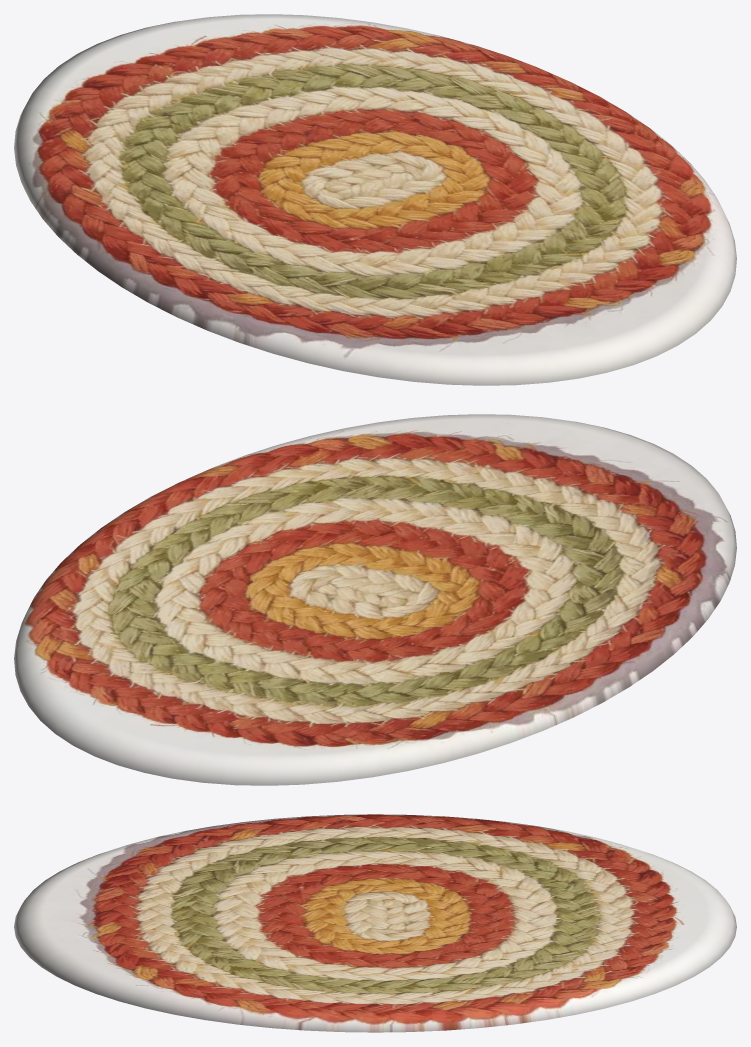
File: wyn_furn_braided_rug.glb
3 renders of one model, top to bottom at view 1: azimuth 30°, elevation 25°; view 2: azimuth 150°, elevation 25°; view 3: azimuth 270°, elevation 25°, orthographic. The views are drawn at different scales.
Visible parts, largest first — view 1: rug; view 2: rug; view 3: rug.
Boxes of the visible parts, bbox=[...] form: rug: bbox=[14, 14, 736, 385]; rug: bbox=[14, 414, 736, 785]; rug: bbox=[14, 814, 736, 1032].
Size of the model in its own units: 1.8 by 0.0501 by 2.6.
1 material, 1 textured.
